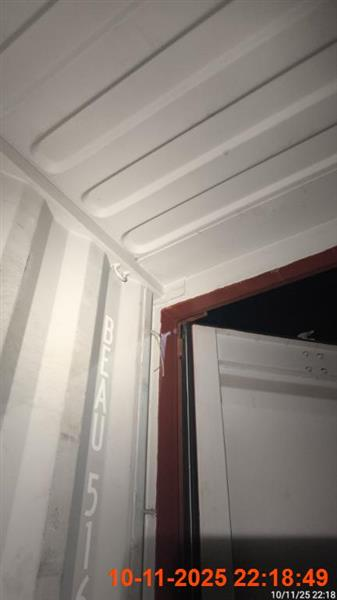broken: (0, 269, 332, 588)
